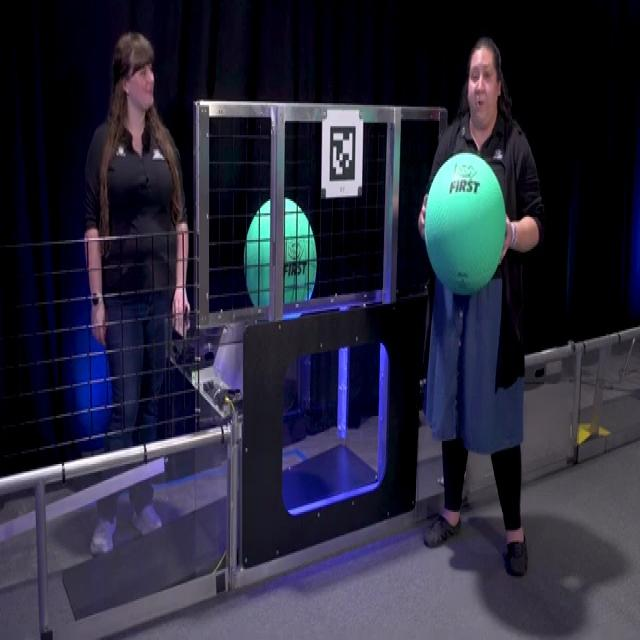Algae: (423, 149, 506, 295), (243, 196, 316, 325)
